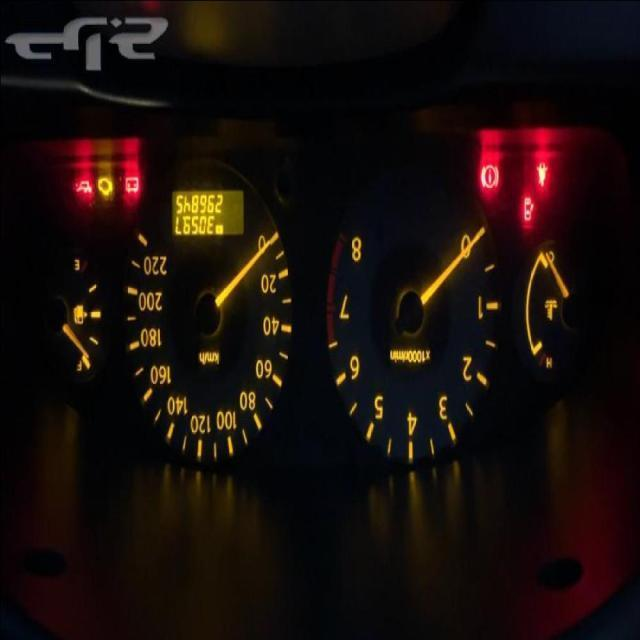Seat Belt: (536, 161, 548, 188)
